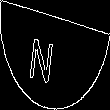N_N: (40, 26, 70, 84)
